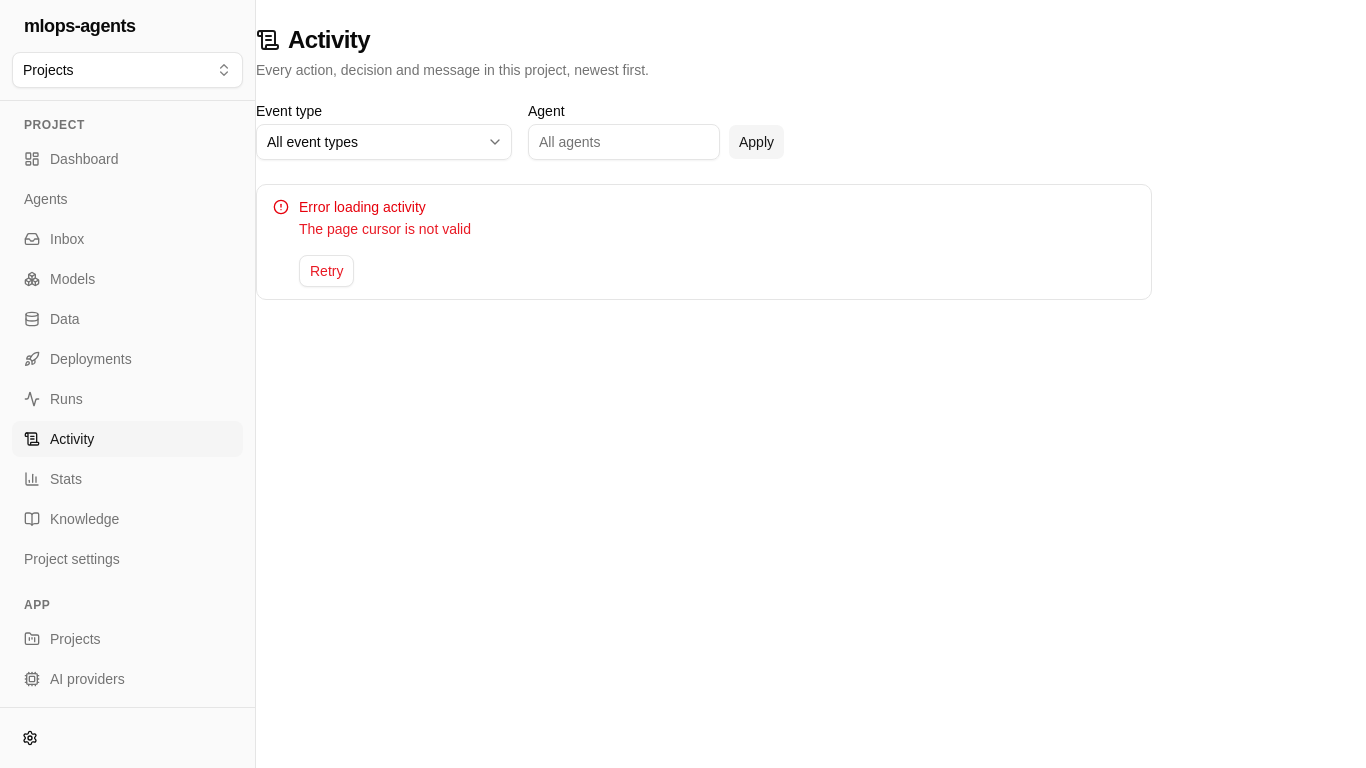
Test case: ActivityPage › shows the server's error with a retry that reloads
Expected: the text "The page cursor is not valid" is shown, top-left (299, 221), bottom-right (471, 237)
Click the button "Retry" at (327, 271), box top-left (299, 255), bottom-right (354, 287)
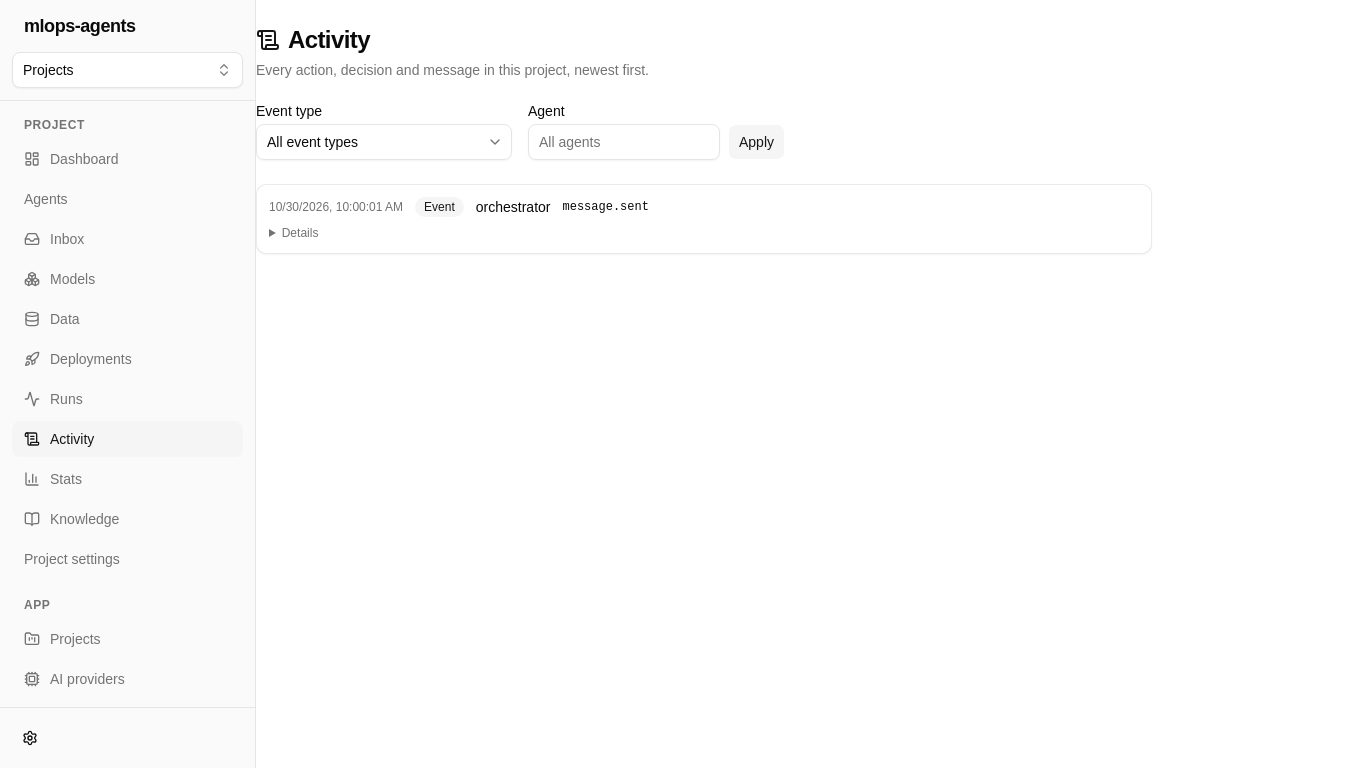
Expected: the list item with test id "activity-event-evt_1" is shown, top-left (256, 184), bottom-right (1152, 254)
